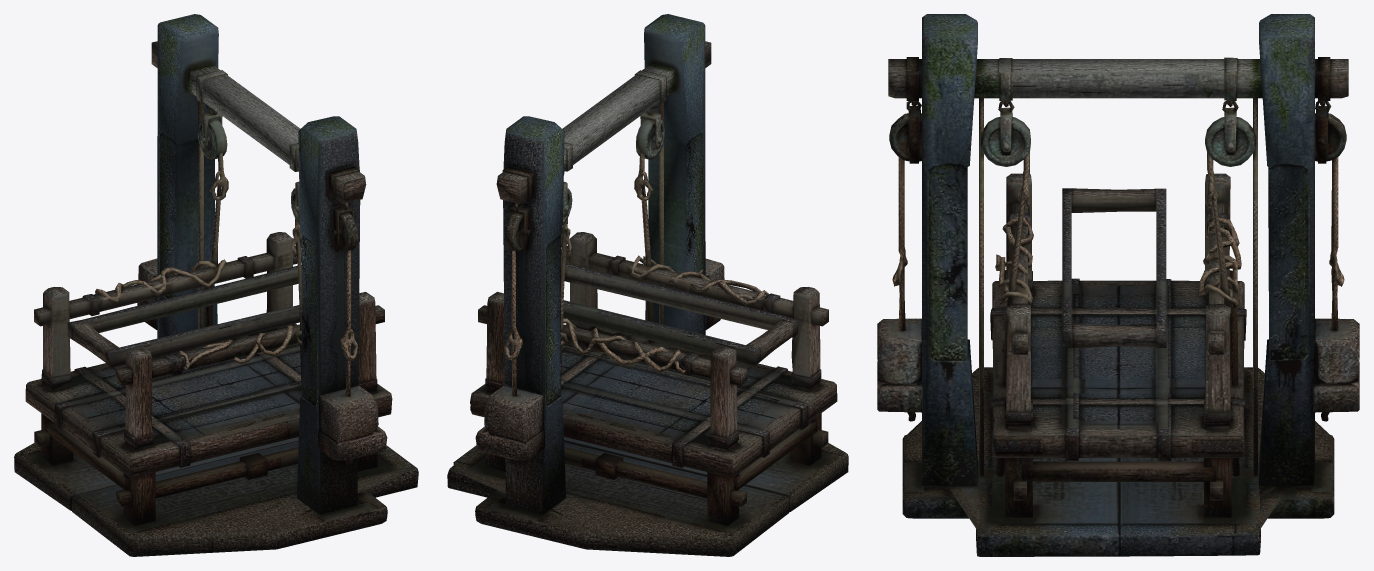
Rendered from tripo_convert_d3a6128e-b5b3-4a27-abfd-fab36714b1c4.fbx.
The picture shows the model from 3 angles, left to right: view 1: azimuth 30°, elevation 25°; view 2: azimuth 150°, elevation 25°; view 3: azimuth 270°, elevation 25°; orthographic projection. The views are drawn at different scales.
Visible parts, largest first — view 1: tripo_node_d3a6128e; view 2: tripo_node_d3a6128e; view 3: tripo_node_d3a6128e.
Boxes of the visible parts, x1,y1,x2,y2 form: tripo_node_d3a6128e: [14, 14, 418, 556]; tripo_node_d3a6128e: [447, 14, 848, 556]; tripo_node_d3a6128e: [877, 14, 1359, 556].
Bounding box in the file's own units: 0.7715 × 0.998 × 0.9258.
1 material, 1 textured.
